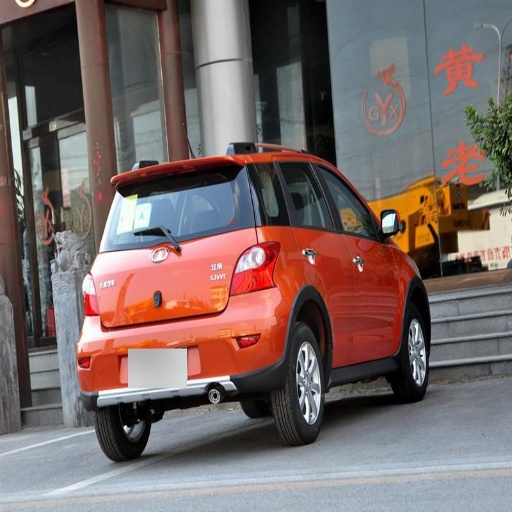back_bumper: (79, 286, 292, 402)
back_right_door: (270, 157, 355, 363)
trunk: (85, 232, 251, 351)
